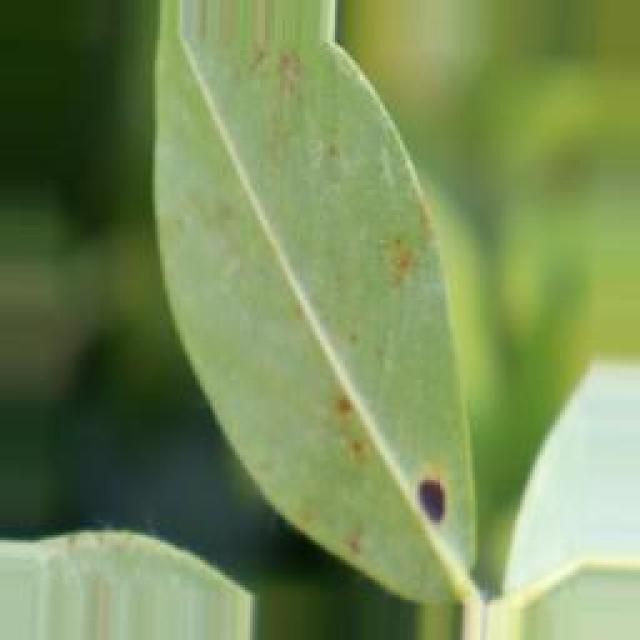Yellowish: (380, 443, 464, 563)
